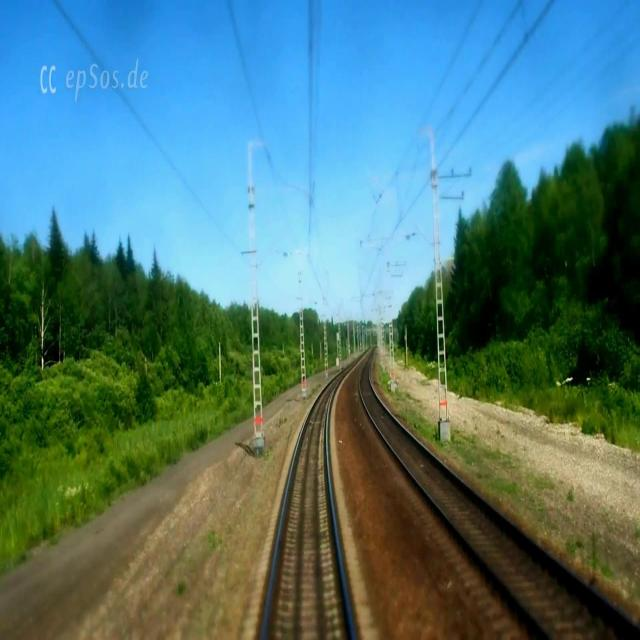rail-track: (361, 361, 640, 639), (266, 377, 350, 639)
